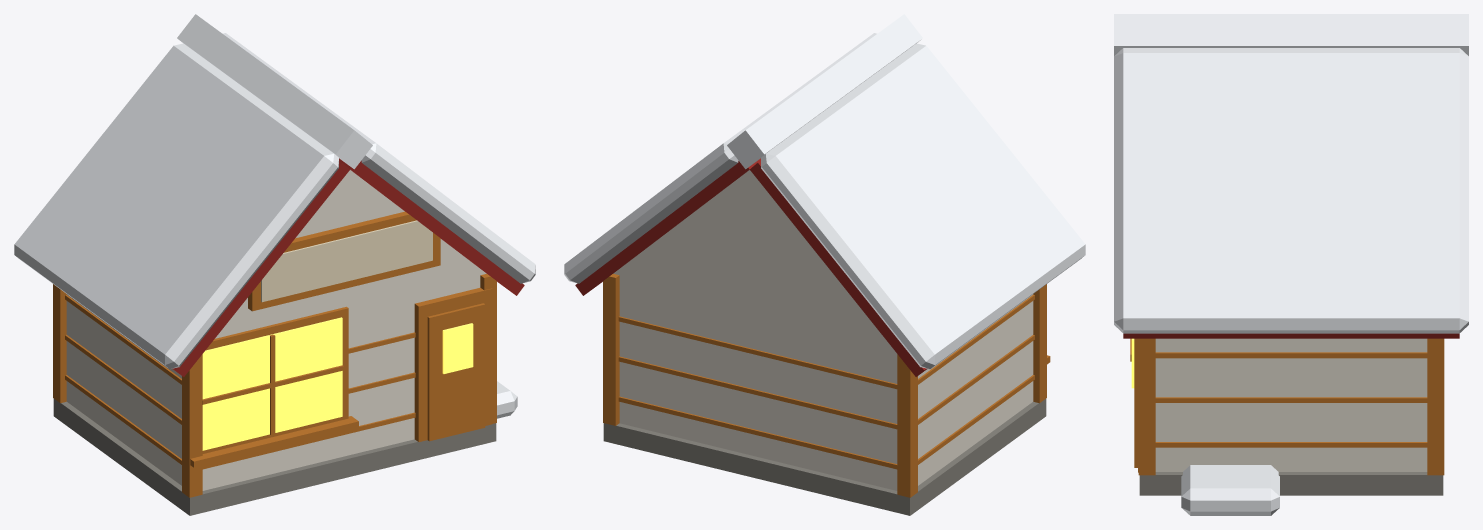
Rendered from ski-school-desk-sugarhouse.glb.
3 views of the same model, side by side, from view 1: azimuth 30°, elevation 25°; view 2: azimuth 150°, elevation 25°; view 3: azimuth 270°, elevation 25° (orthographic). The views are drawn at different scales.
Visible parts, largest first — view 1: ski-school-desk-sugarhouse; view 2: ski-school-desk-sugarhouse; view 3: ski-school-desk-sugarhouse.
Boxes of the visible parts, left/top/right/bottom form: ski-school-desk-sugarhouse: left=14, top=14, right=535, bottom=515; ski-school-desk-sugarhouse: left=564, top=14, right=1085, bottom=515; ski-school-desk-sugarhouse: left=1114, top=14, right=1468, bottom=515.
Bounding box in the file's own units: 6.5 × 5.79 × 4.67.
